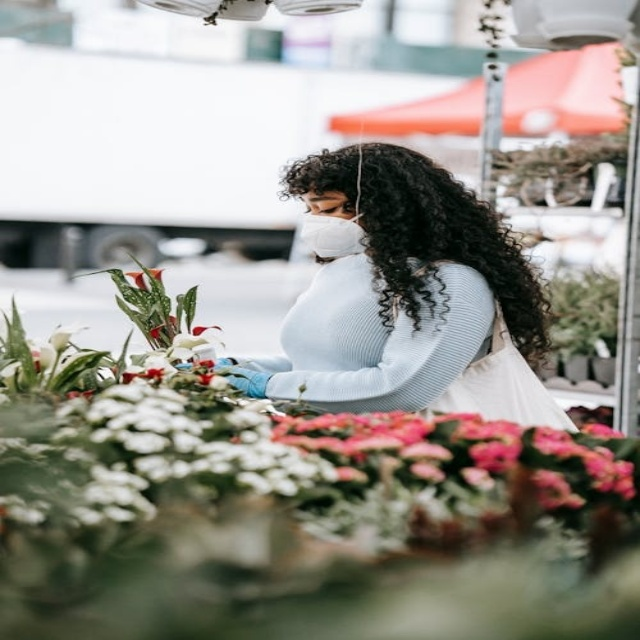Guantes: (204, 355, 273, 399)
Mascara: (297, 210, 370, 260)
Sin_gafas: (294, 195, 355, 218)
